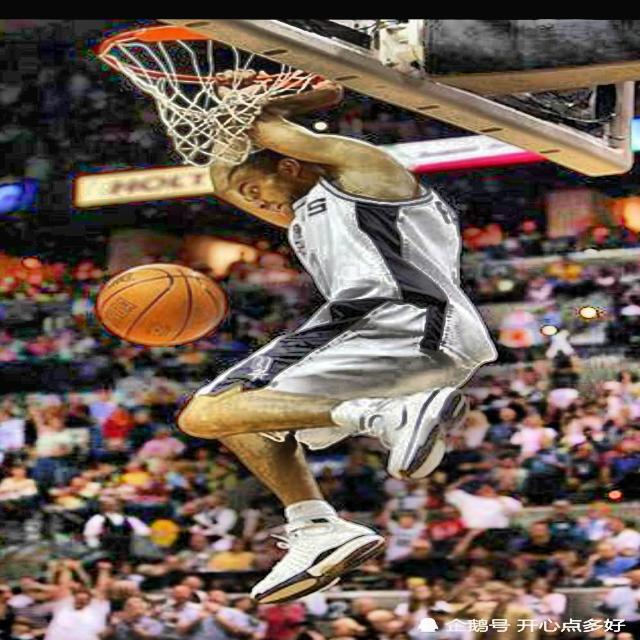board: (99, 263, 228, 347)
rim: (94, 28, 314, 163)
